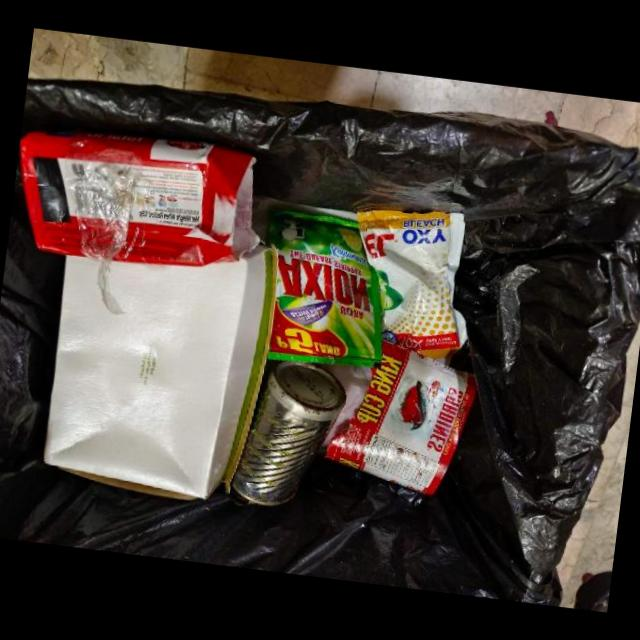carton: (43, 245, 279, 501)
giay: (17, 130, 259, 268), (322, 340, 477, 497)
goi_nhua_nho: (266, 210, 382, 368), (357, 209, 467, 359)
nhom: (228, 362, 346, 507)
